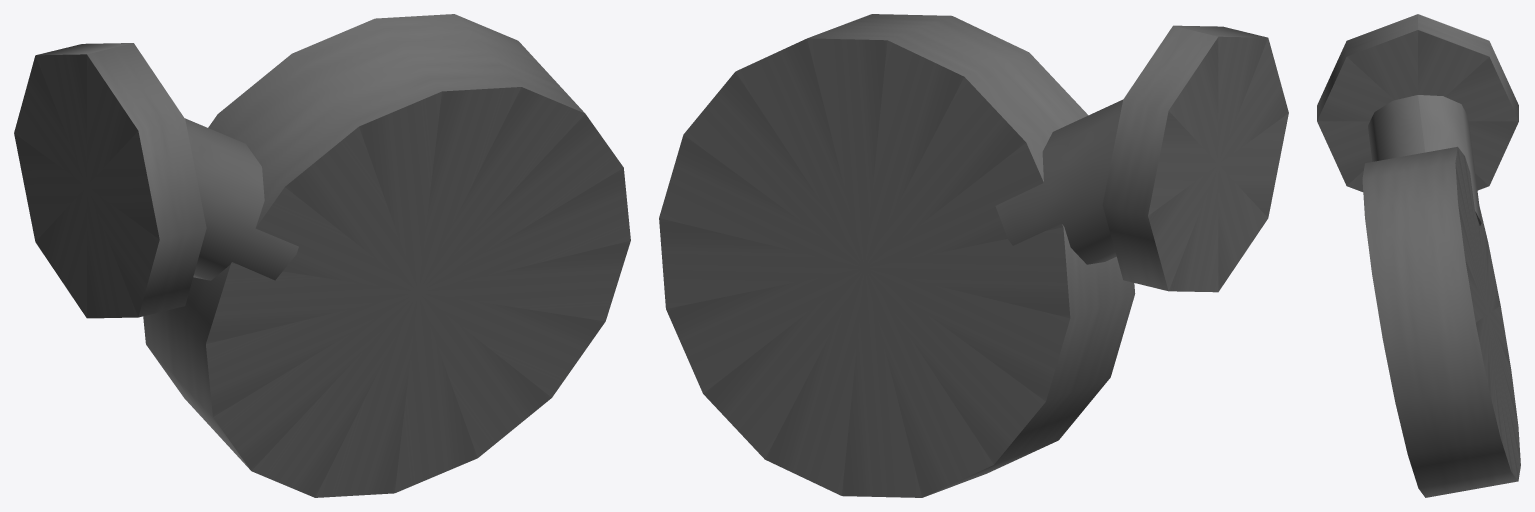
Rendered from mastarmcurve_5x1_c3_west.obj.
3 renders of one model, left to right at view 1: azimuth 30°, elevation 25°; view 2: azimuth 150°, elevation 25°; view 3: azimuth 270°, elevation 25°, orthographic. The views are drawn at different scales.
Parts seen in each view (by area): view 1: mastarm_5x1_c3_west; view 2: mastarm_5x1_c3_west; view 3: mastarm_5x1_c3_west.
Part boxes in pixels (<box>): mastarm_5x1_c3_west: <box>14,14,630,497</box>; mastarm_5x1_c3_west: <box>659,14,1288,497</box>; mastarm_5x1_c3_west: <box>1317,14,1520,497</box>.
Size of the model in its own units: 0.8363 by 0.7894 by 0.4038.
